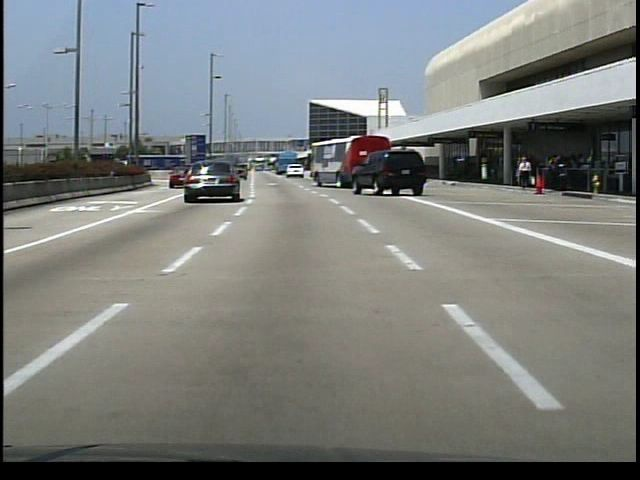person: (516, 155, 533, 191)
